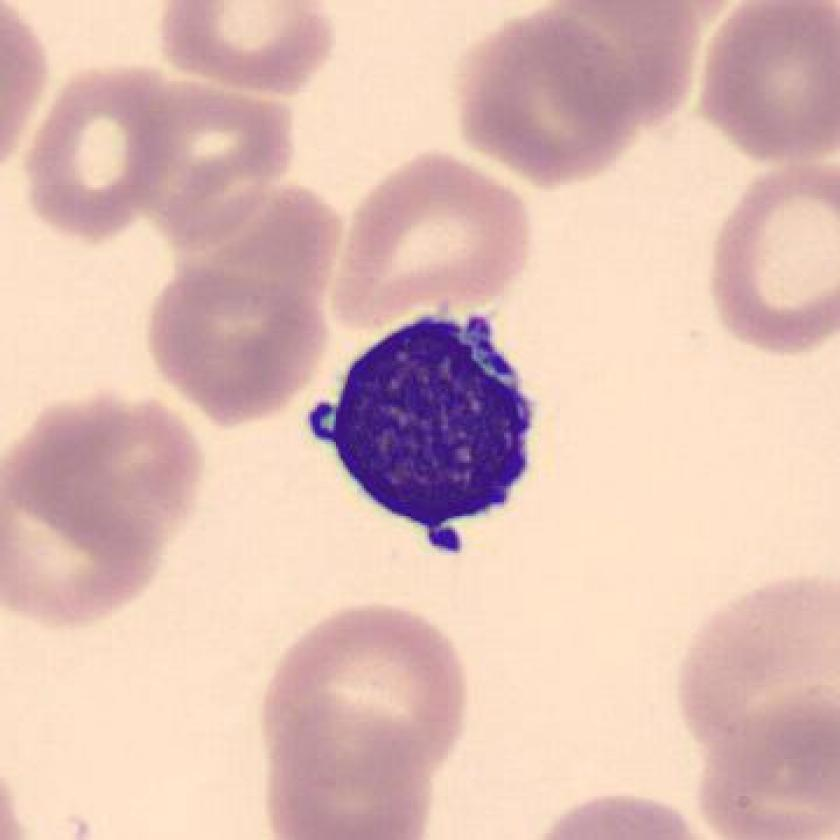lymphocyte: (290, 286, 559, 575)
